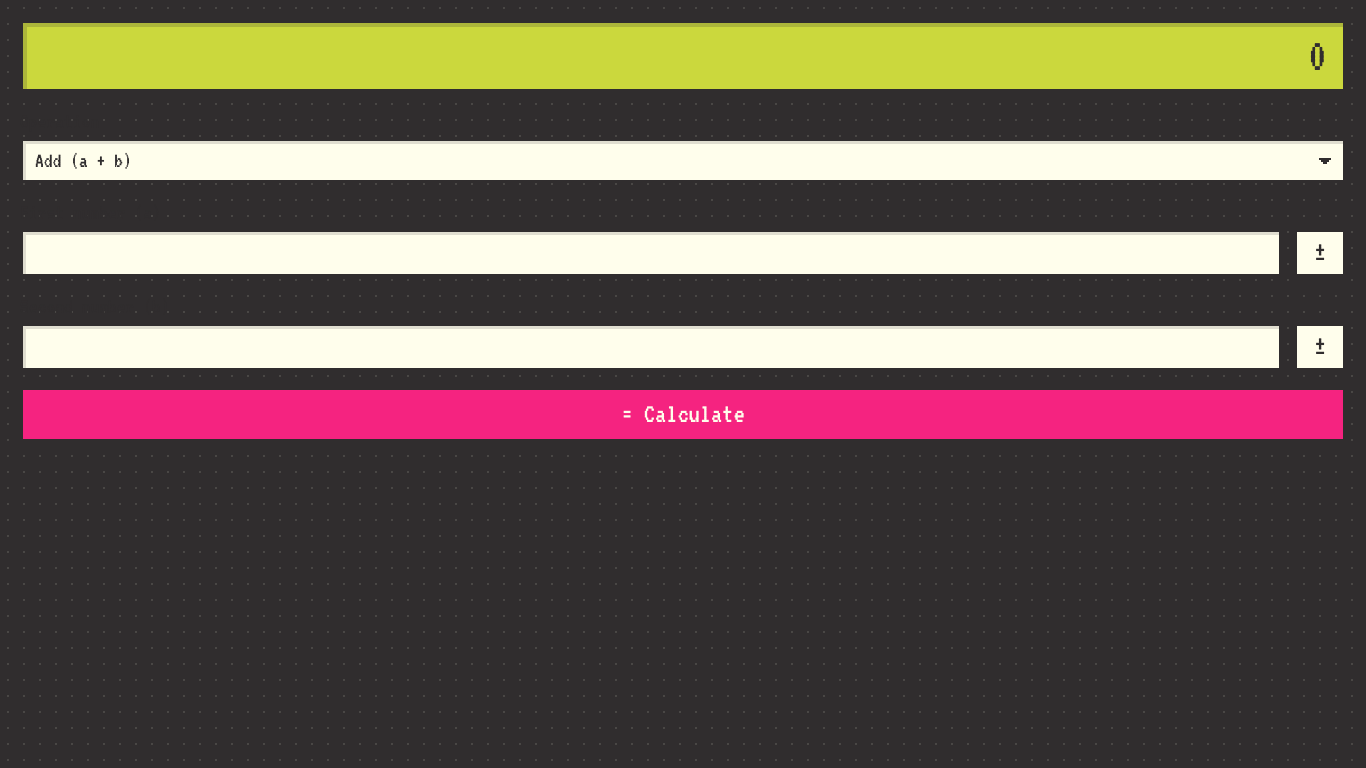
Scenario: Calculator › hides the second input for square root and sends only a
This screenshot has width=1366, height=768.
Select "Square root (√a)" in the dropdown labelled "Operation" at (683, 161), box [20,138,1346,183]
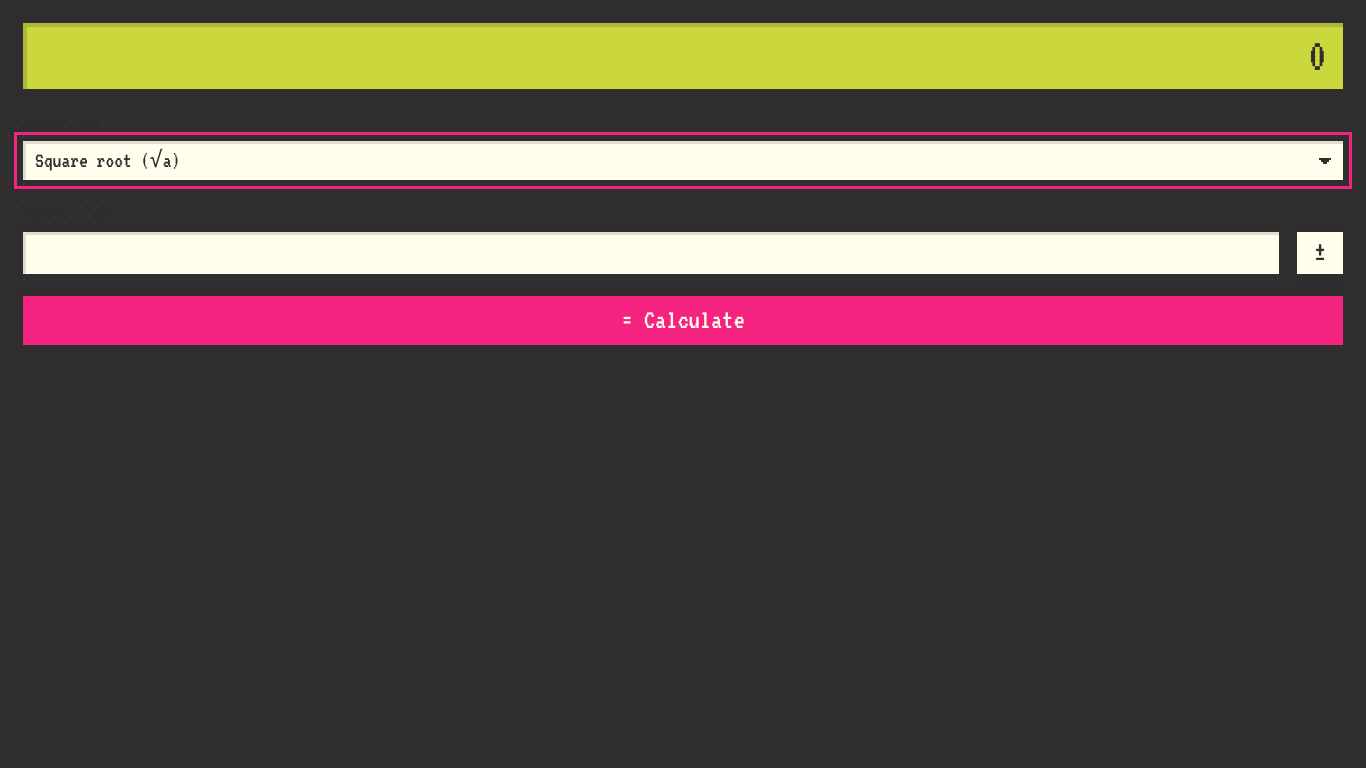
Check: the label labelled "Second number" is gone
Type "9" into the field labelled "Number (a)" at (651, 253), box [20,229,1282,277]
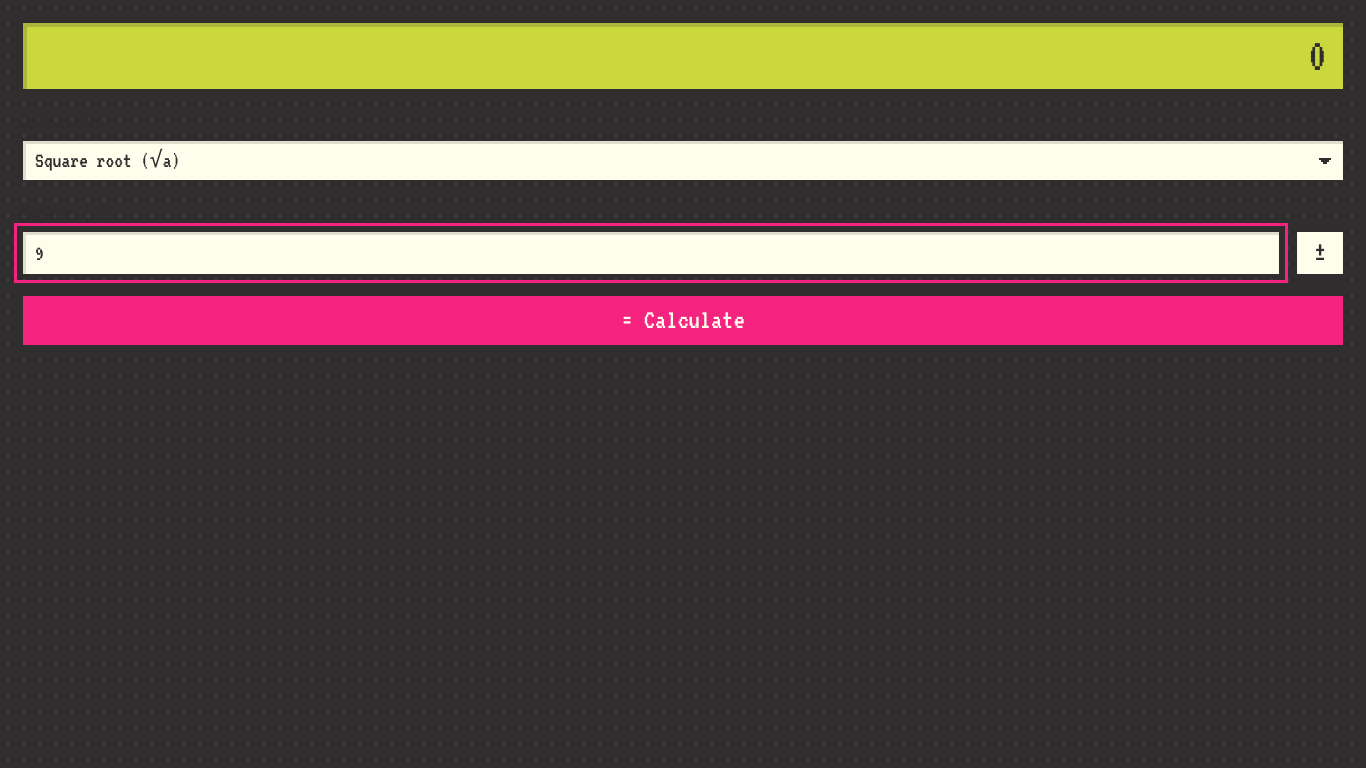
Click the button "= Calculate" at (683, 321), box [20,293,1346,348]
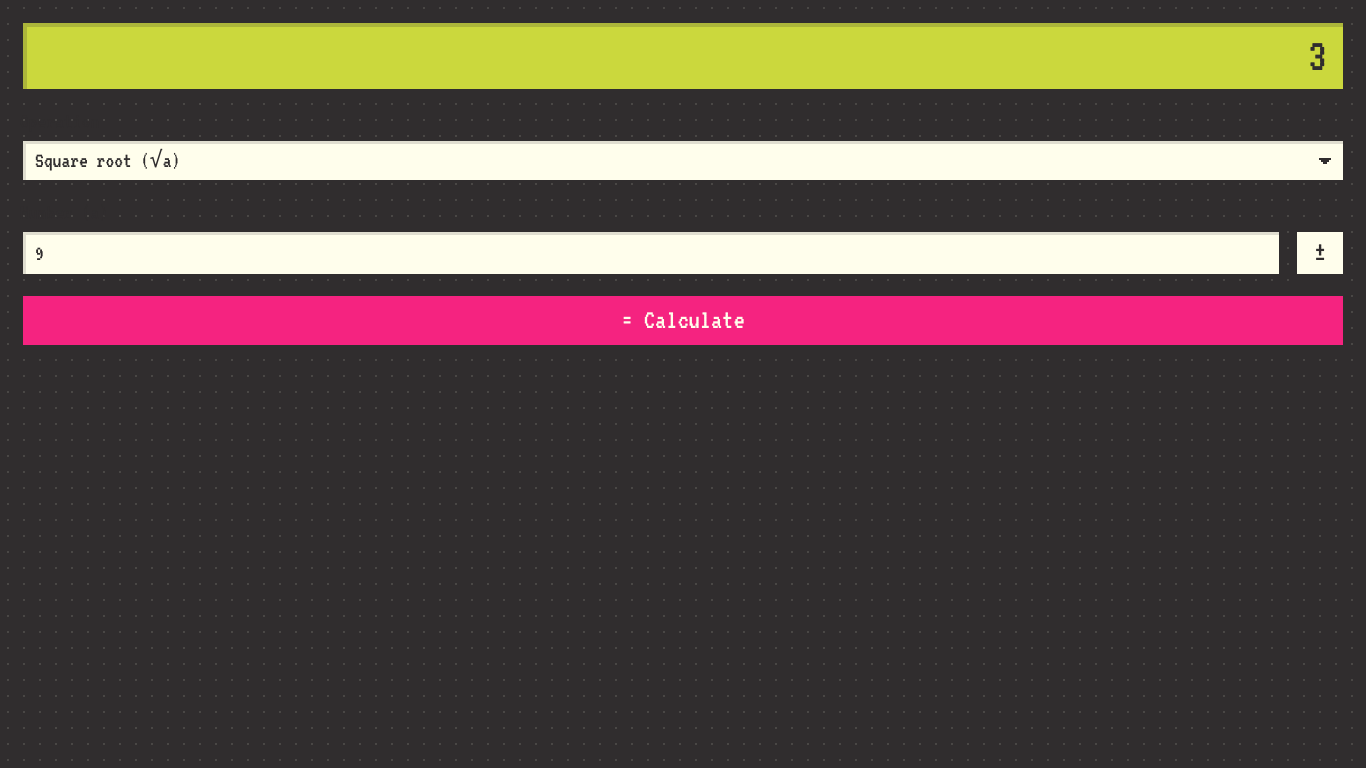
Check: the text "3" is shown, box [1308,32,1327,80]
